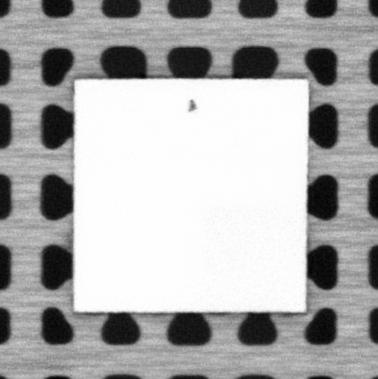DIE_INK: (186, 97, 198, 112)
